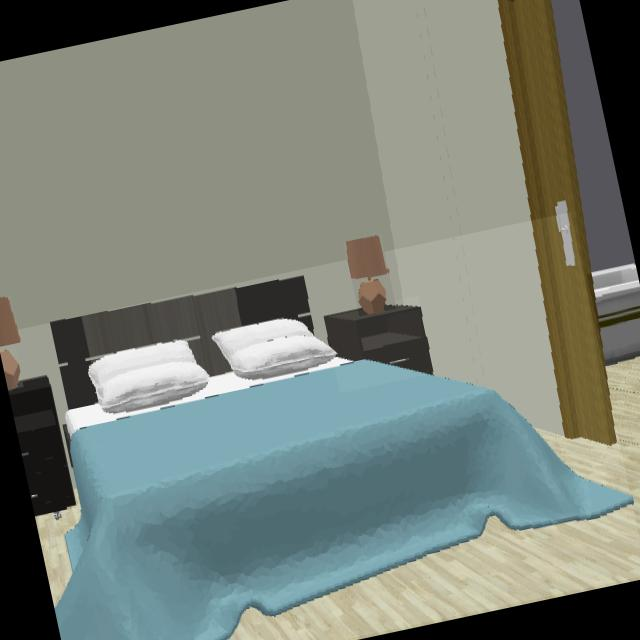bathtube: (591, 264, 640, 364)
bed: (50, 276, 631, 640)
lamp: (348, 238, 388, 313), (0, 297, 20, 346), (0, 351, 19, 389)
nighttable: (9, 377, 75, 515), (325, 304, 432, 373)
